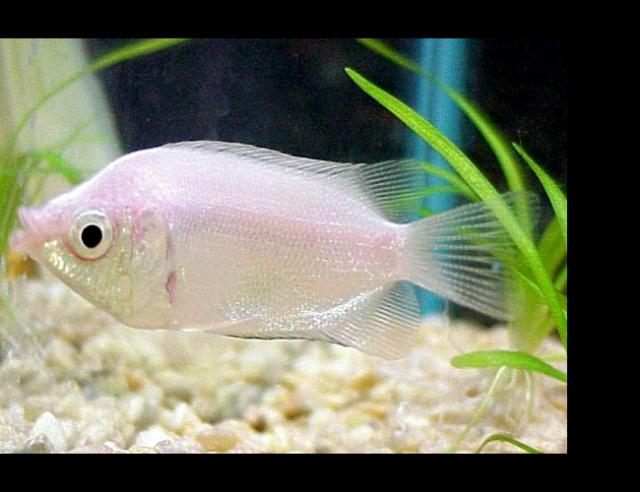Mulut: (0, 190, 62, 274)
Sirip Anal: (219, 274, 427, 364)
Sirip Ekor: (390, 177, 552, 333)
Sirip Punggung: (158, 130, 444, 234)
